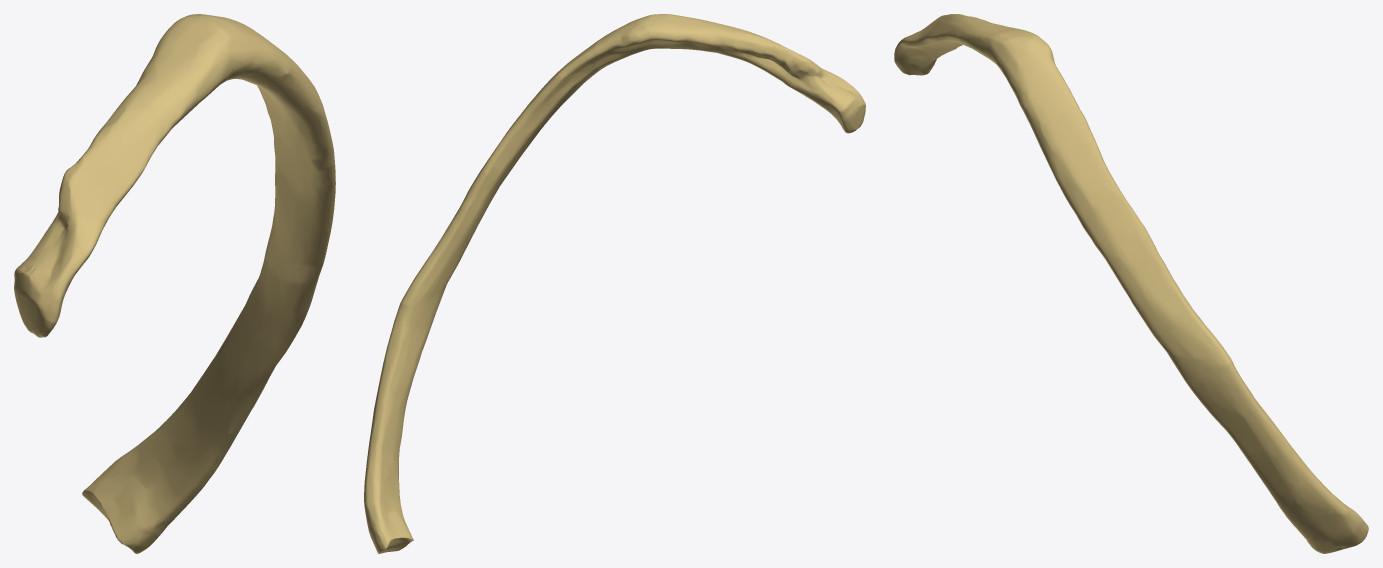
The picture shows the model from 3 angles, left to right: view 1: azimuth 30°, elevation 25°; view 2: azimuth 150°, elevation 25°; view 3: azimuth 270°, elevation 25°; orthographic projection. The views are drawn at different scales.
Visible parts, largest first — view 1: 左侧第八肋; view 2: 左侧第八肋; view 3: 左侧第八肋.
Boxes of the visible parts, x1,y1,x2,y2 form: 左侧第八肋: [14, 14, 335, 553]; 左侧第八肋: [364, 14, 865, 553]; 左侧第八肋: [894, 14, 1368, 553].
Bounding box in the file's own units: 0.1737 × 0.2408 × 0.2233.
